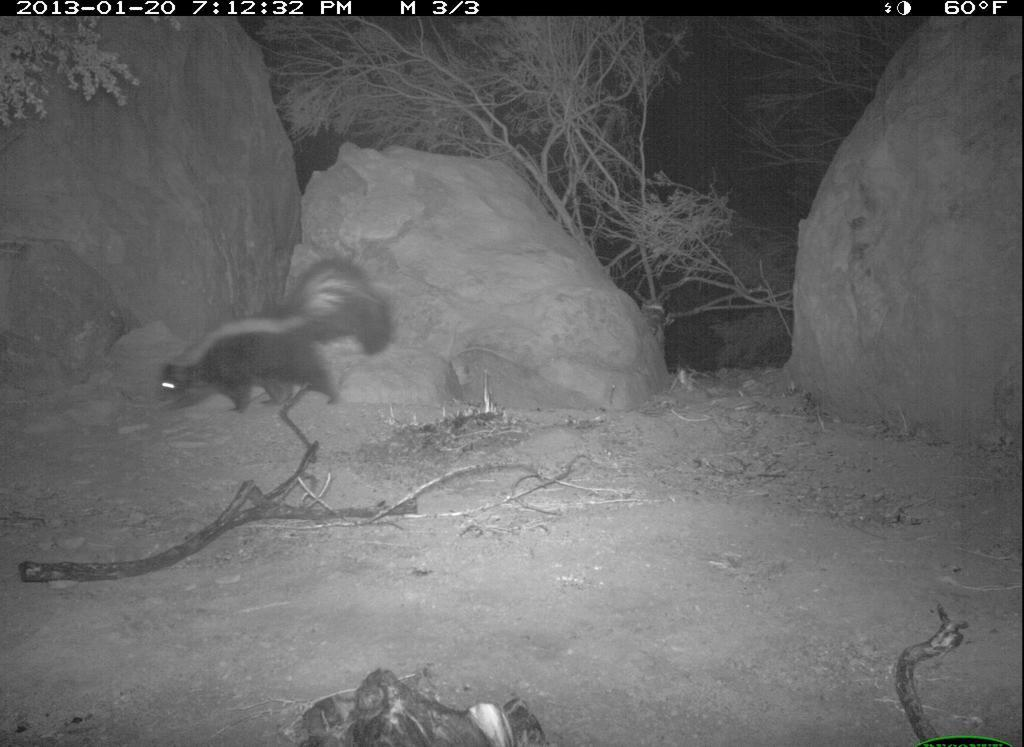skunk: (148, 250, 404, 423)
